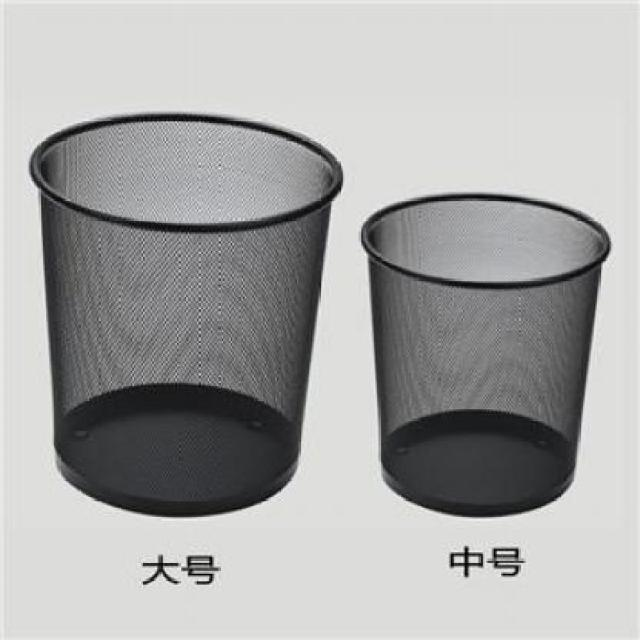dustbin: (25, 106, 349, 524), (356, 187, 616, 526)
